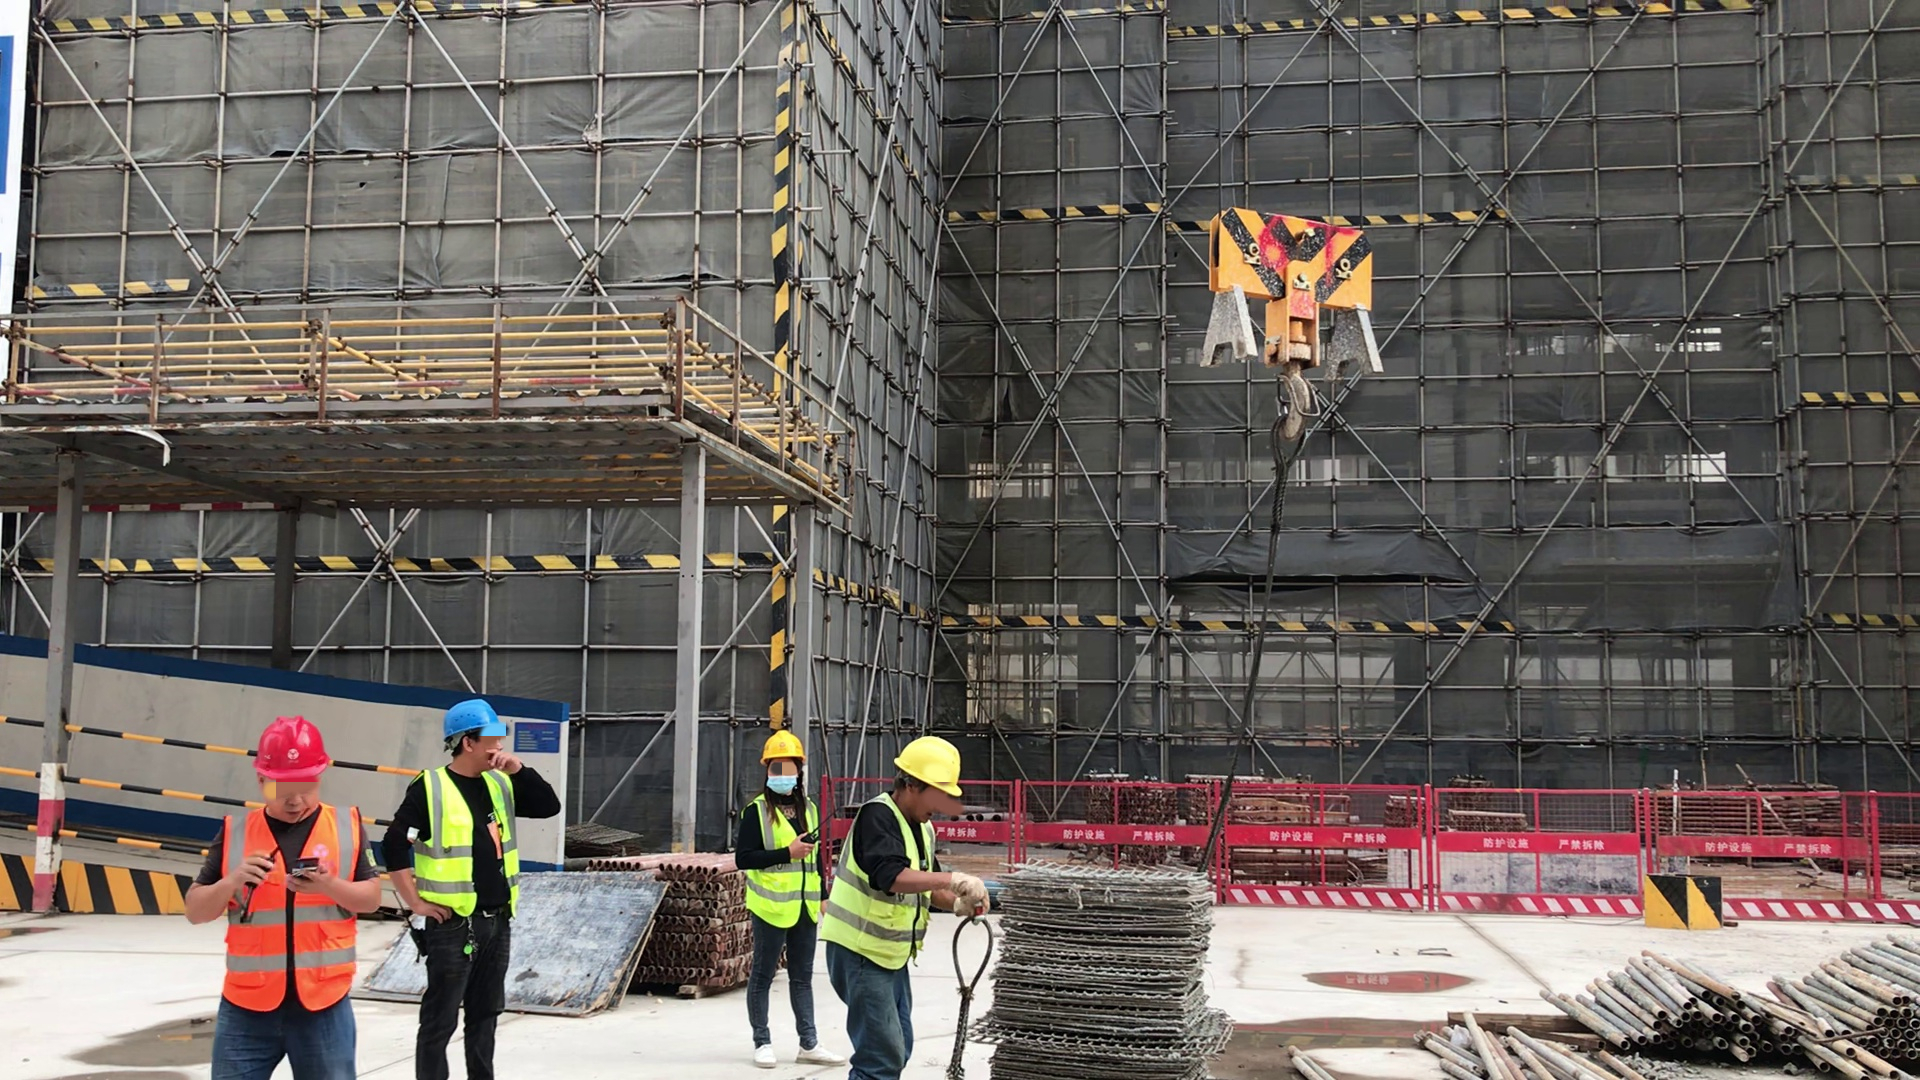fence: (1433, 782, 1637, 926), (1232, 780, 1433, 920), (1730, 787, 1915, 932), (80, 717, 202, 868), (1000, 771, 1199, 856)
helmet: (251, 719, 336, 779), (889, 738, 963, 801), (440, 700, 508, 743), (759, 732, 807, 767)
hook: (1202, 204, 1380, 448)
person: (180, 717, 391, 1080), (385, 704, 562, 1080), (823, 737, 989, 1080), (733, 731, 843, 1076)
scaffold: (1561, 946, 1817, 1076), (1786, 931, 1920, 1060), (658, 852, 743, 1001)
vest: (215, 804, 364, 1015), (829, 794, 945, 972), (411, 767, 528, 926), (743, 795, 823, 937)
